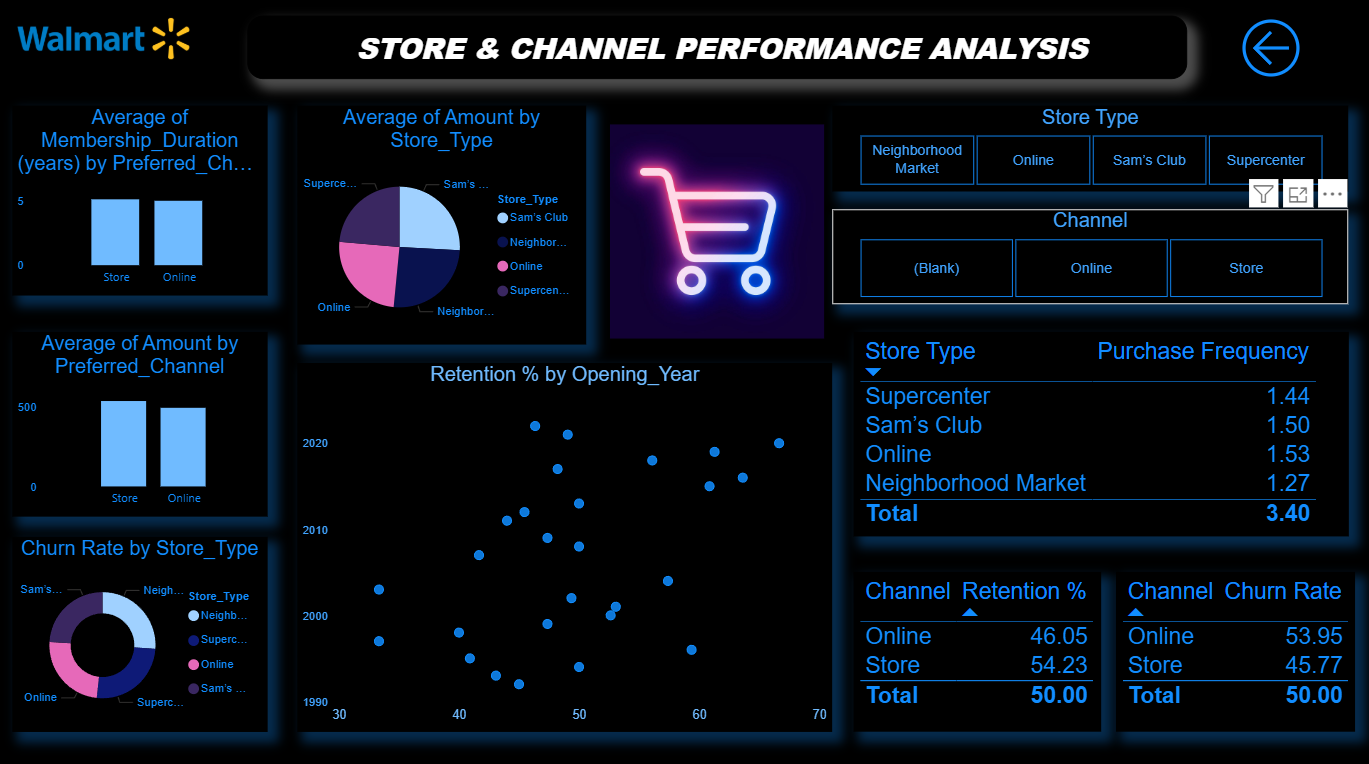

Layout of this report page (visuals, bound fields, positions):
{"tool":"powerbi","page":{"name":"Store and Channel Performance ","canvas":[1280,720],"ordinal":4},"visuals":[{"type":"image","box":[15.1,12.8,169.8,59.3],"z":0},{"type":"textbox","box":[233.7,20.9,874.4,59.3],"z":1000},{"type":"image","box":[564,117.4,214,209.3],"z":2000},{"type":"actionButton","box":[1152.3,17.4,75.6,67.4],"z":3000},{"type":"pieChart","title":"Amount by Store Type","fields":{"Category":["Store_Locations.Store_Type"],"Y":["Avg(Customer_Transactions.Amount)"]},"box":[280.2,104.7,268.6,222.1],"z":4000},{"type":"donutChart","title":"Churn Rate by Store Type","fields":{"Category":["Store_Locations.Store_Type"],"Y":["Calculation Store.Churn Rate"]},"box":[15.1,505.8,237.2,181.4],"z":5000},{"type":"scatterChart","title":"Retention % by Opening Year","fields":{"X":["Calculation Store.Retention %"],"Y":["Customer_Transactions.Opening_Year"]},"box":[280.2,344.2,497.7,343],"z":6000},{"type":"columnChart","title":"Amount by Preferred Channel","fields":{"Y":["Avg(Customer_Transactions.Amount)"],"Category":["Customer_Demographics.Preferred_Channel"]},"box":[15.1,315.1,237.2,172.1],"z":7000},{"type":"columnChart","title":"Membership duration by Channel","fields":{"Y":["Avg(CLV_Table.Membership_Duration (years))"],"Category":["Customer_Demographics.Preferred_Channel"]},"box":[15.1,104.7,237.2,176.7],"z":8000},{"type":"slicer","title":"Store Type","fields":{"Values":["Customer_Transactions.Store_Type"]},"box":[777.9,104.7,480.2,80.2],"z":9000},{"type":"slicer","title":"Channel","fields":{"Values":["Customer_Demographics.Preferred_Channel"]},"box":[777.9,201.2,480.2,88.4],"z":10000},{"type":"tableEx","fields":{"Values":["Customer_Transactions.Store_Type","Calculation Store.Avg_Purchase_frequency"]},"box":[797.7,315.1,460.5,190.7],"z":11000},{"type":"tableEx","fields":{"Values":["Customer_Demographics.Preferred_Channel","Calculation Store.Retention %"]},"box":[797.7,538.4,230.2,148.8],"z":12000},{"type":"tableEx","fields":{"Values":["Customer_Demographics.Preferred_Channel","Calculation Store.Churn Rate"]},"box":[1041.9,538.4,222.1,148.8],"z":13000}]}

Visuals, with their boxes in screenshot pixels (x1, y1, x2, y2), scaled from the page's 1280x720 canvas onto the 1369x764 screenshot:
image: 16,14,198,77
textbox: 250,22,1185,85
image: 603,125,832,347
actionButton: 1232,18,1313,90
"Amount by Store Type" pieChart: 300,111,587,347
"Churn Rate by Store Type" donutChart: 16,537,270,729
"Retention % by Opening Year" scatterChart: 300,365,832,729
"Amount by Preferred Channel" columnChart: 16,334,270,517
"Membership duration by Channel" columnChart: 16,111,270,299
"Store Type" slicer: 832,111,1346,196
"Channel" slicer: 832,213,1346,307
tableEx - Customer_Transactions.Store_Type x Calculation Store.Avg_Purchase_frequency: 853,334,1346,537
tableEx - Customer_Demographics.Preferred_Channel x Calculation Store.Retention %: 853,571,1099,729
tableEx - Customer_Demographics.Preferred_Channel x Calculation Store.Churn Rate: 1114,571,1352,729
